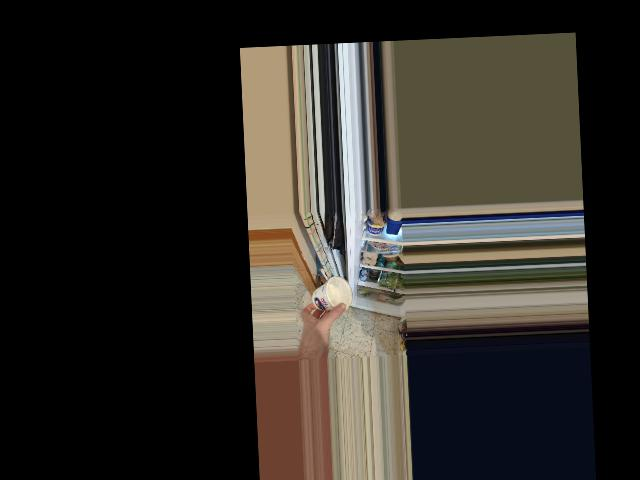cotage: (313, 277, 354, 317)
